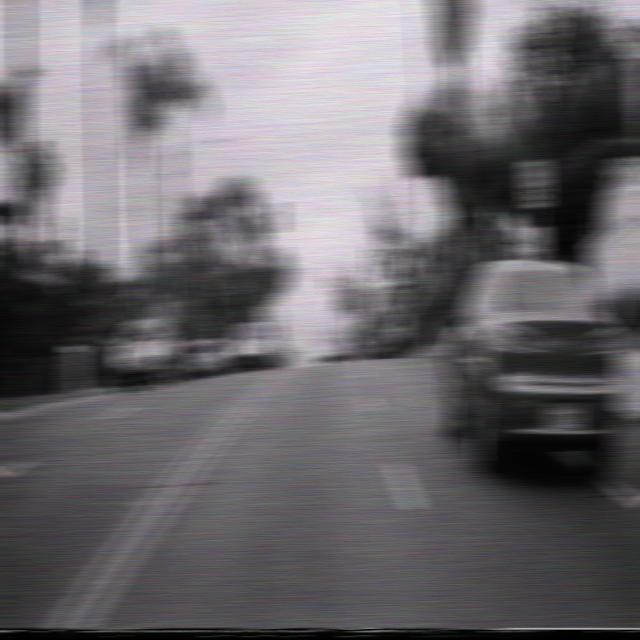speedLimit35: (519, 157, 551, 208)
